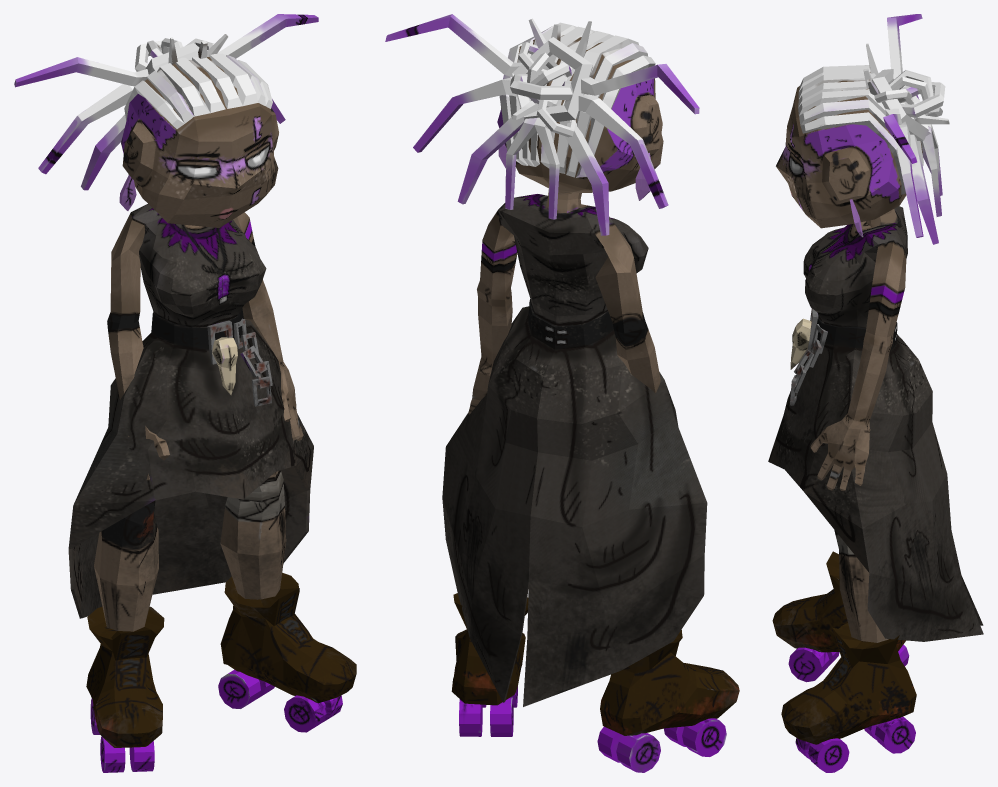
The model's file is bruja_000052.obj.
3 renders of one model, left to right at view 1: azimuth 30°, elevation 25°; view 2: azimuth 150°, elevation 25°; view 3: azimuth 270°, elevation 25°, orthographic. The views are drawn at different scales.
Parts seen in each view (by area): view 1: Bruja_Plane.001; view 2: Bruja_Plane.001; view 3: Bruja_Plane.001.
Part boxes in pixels (bbox=[...]): Bruja_Plane.001: bbox=[14, 14, 356, 772]; Bruja_Plane.001: bbox=[385, 14, 739, 772]; Bruja_Plane.001: bbox=[768, 14, 983, 772].
Size of the model in its own units: 7.47 by 16.58 by 4.87.
